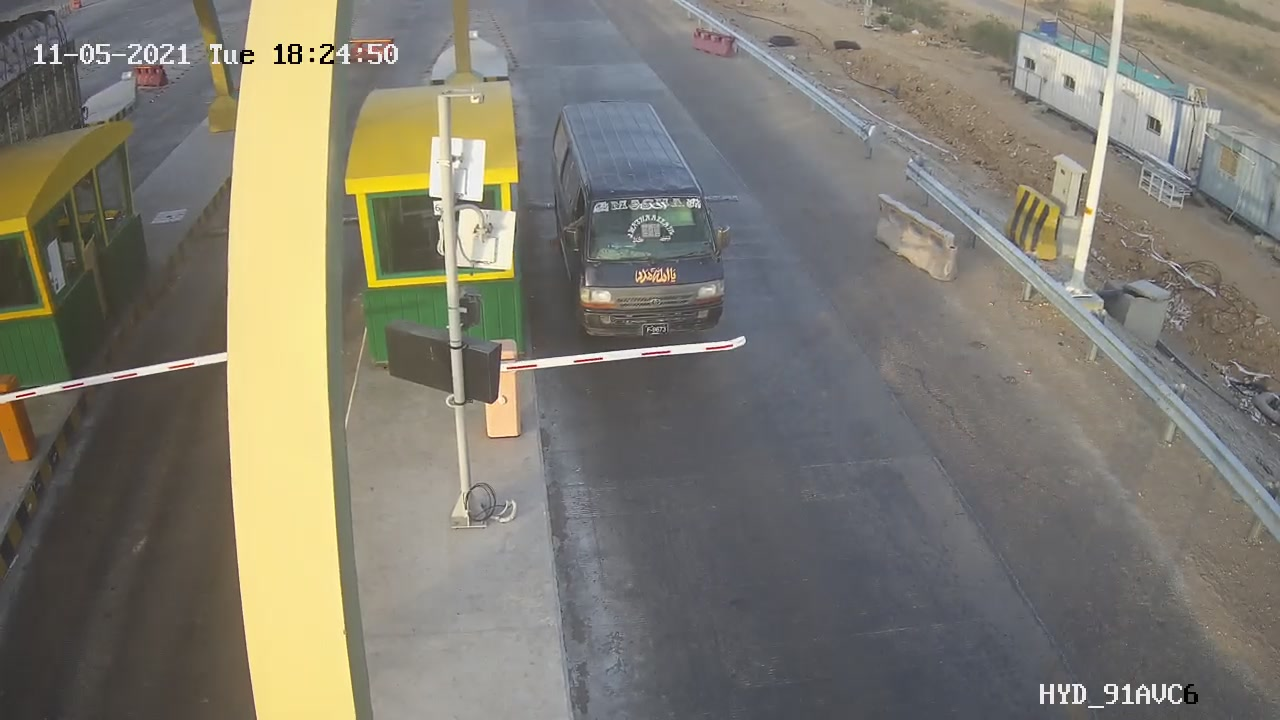F2: (535, 100, 737, 345)
